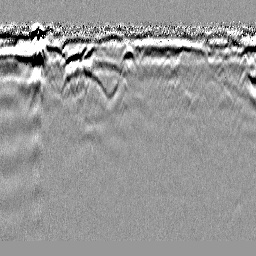cavity: (119, 45, 136, 64)
